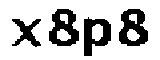8: (118, 6, 152, 49), (46, 6, 79, 48)
p: (80, 17, 115, 60)
x: (10, 17, 43, 48)
